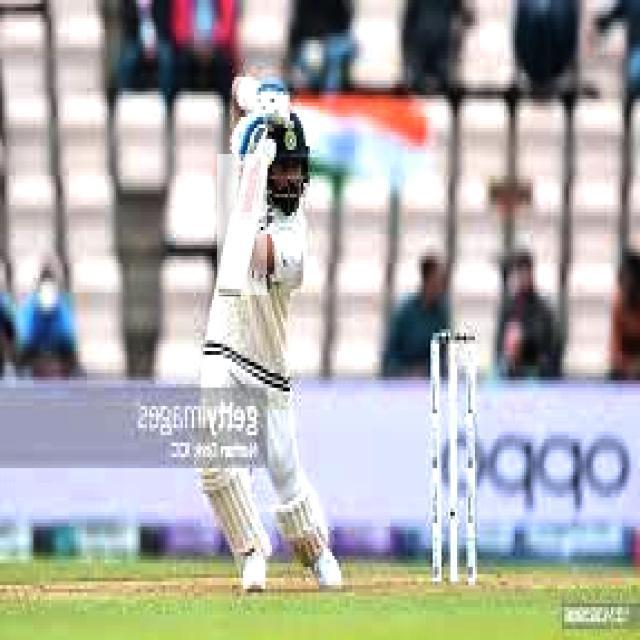bat: (210, 153, 269, 301)
toe: (220, 284, 243, 296)
